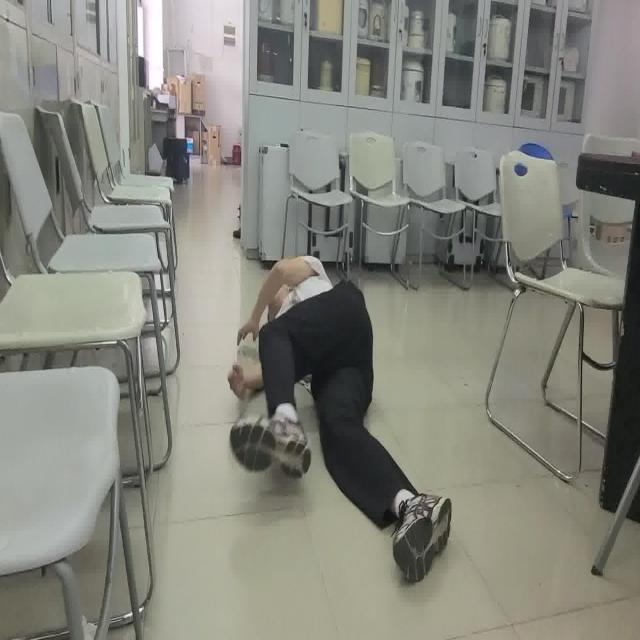fall: (226, 251, 453, 584)
